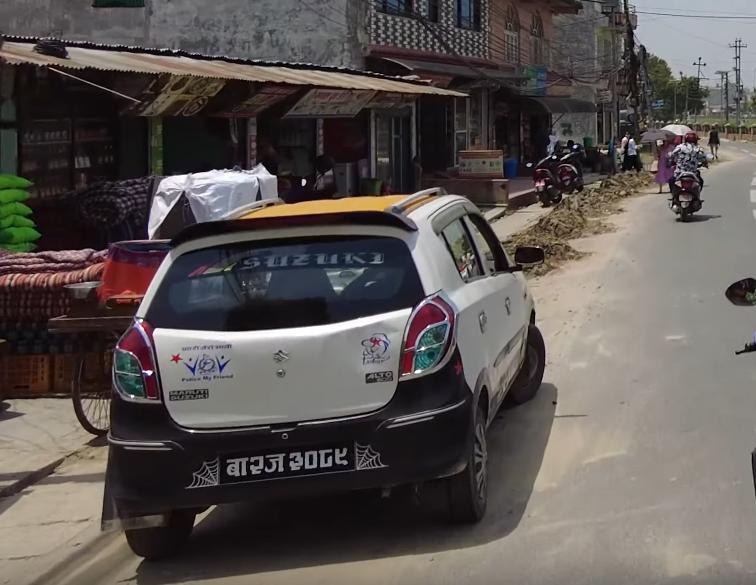scooter: (666, 152, 707, 224), (524, 153, 565, 205), (552, 144, 590, 193)
taxi: (94, 177, 554, 565)
